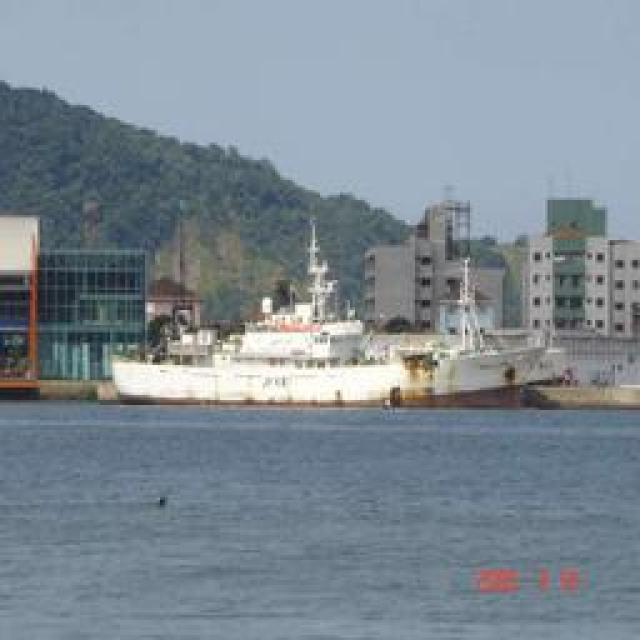ship2: (114, 217, 573, 407)
